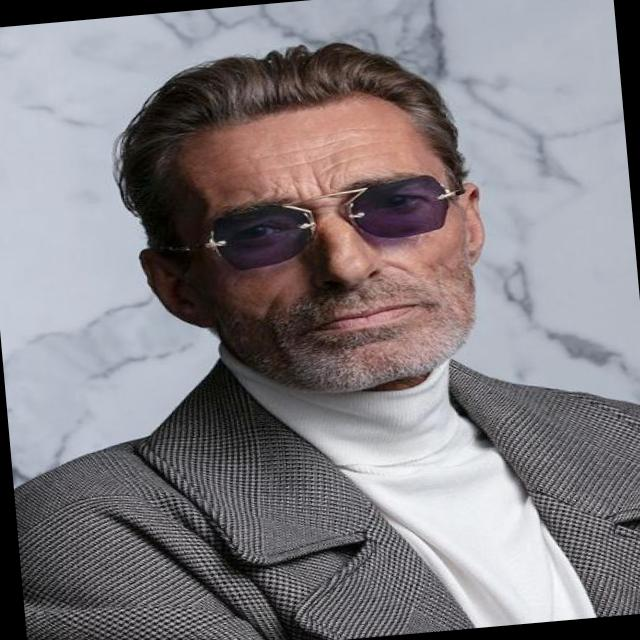glasses: (150, 170, 468, 278)
